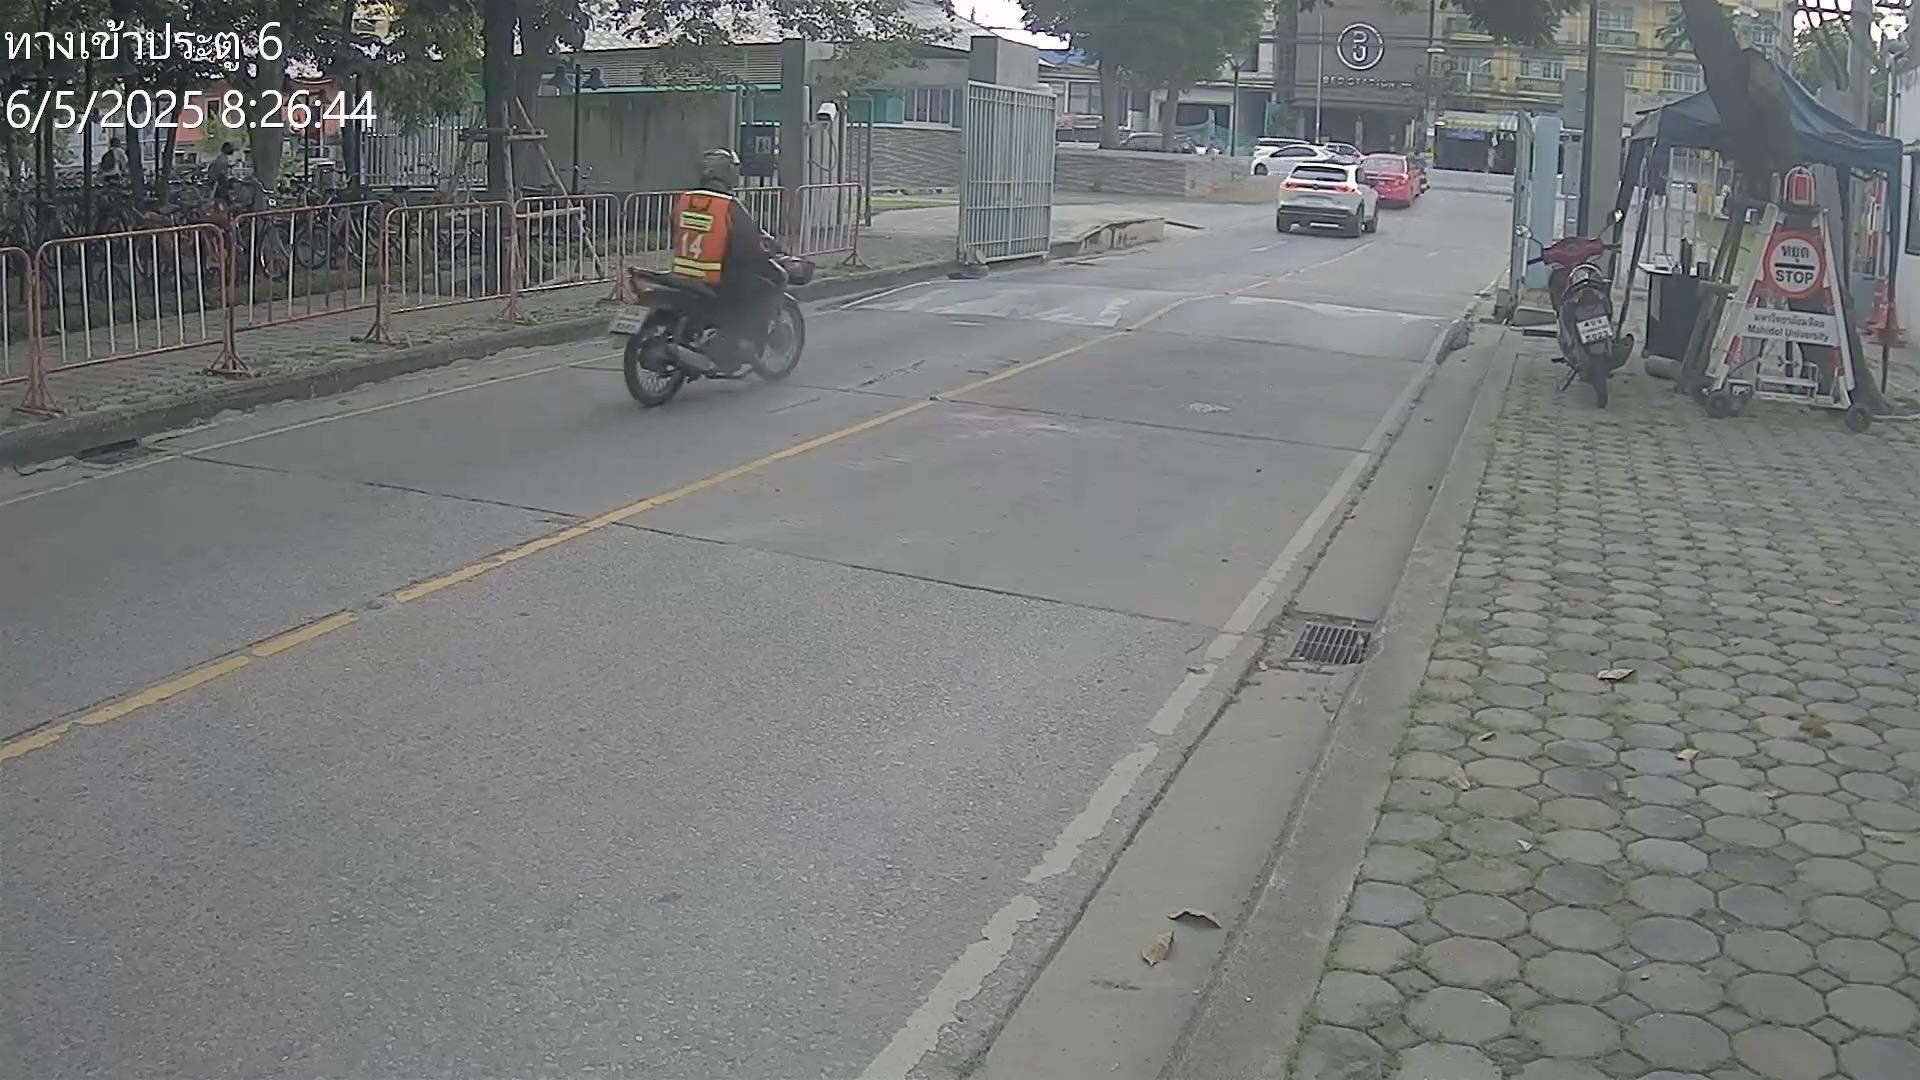With-Helmet: (696, 144, 742, 193)
